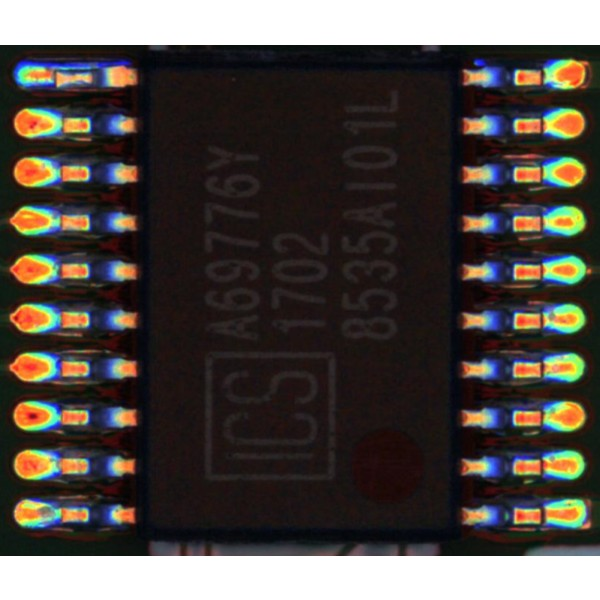Bad_podu: (38, 72, 69, 84), (532, 509, 555, 523), (528, 461, 552, 473), (529, 364, 556, 374)
